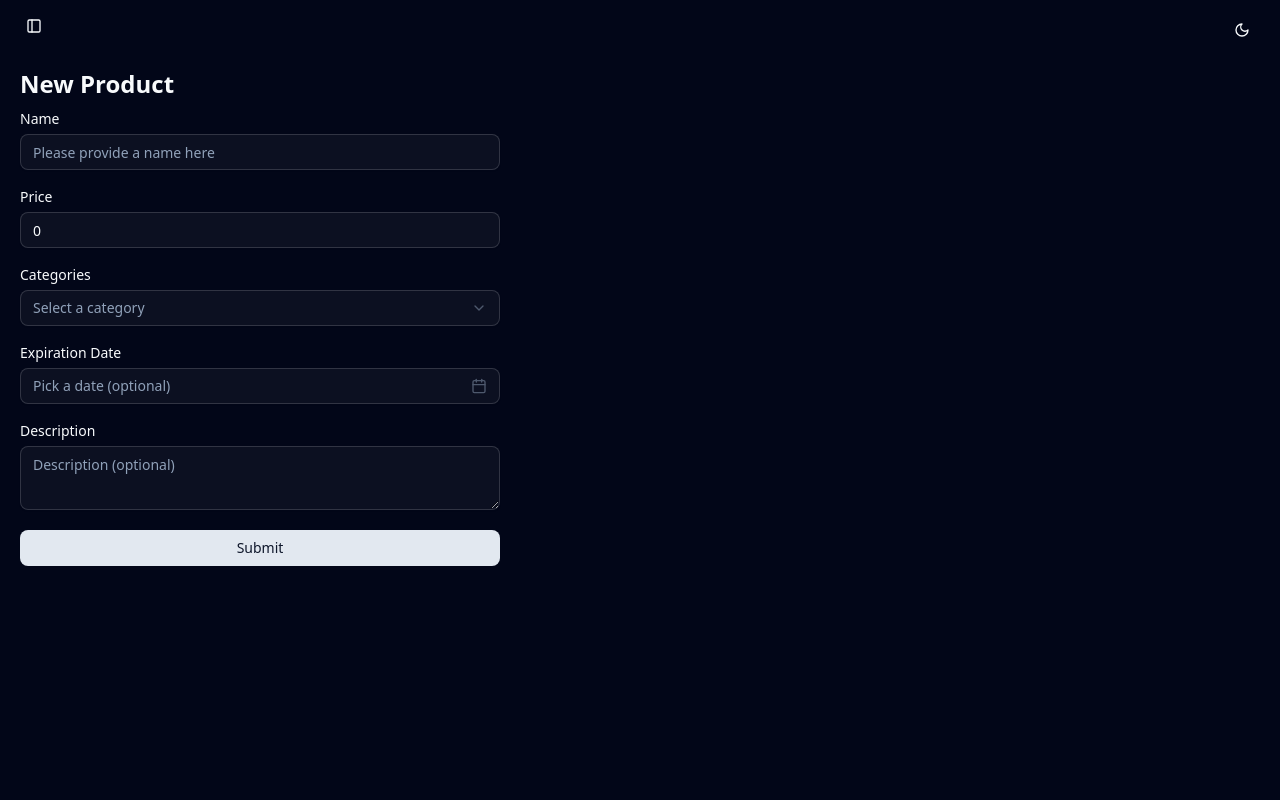
Test: Create Products › should have an error when name field is empty
Expected: the field with test id "name" is shown, left=20, top=134, right=500, bottom=170
Replace the text in the field with test id "price" with "45.50" at (260,230), box left=20, top=212, right=500, bottom=248
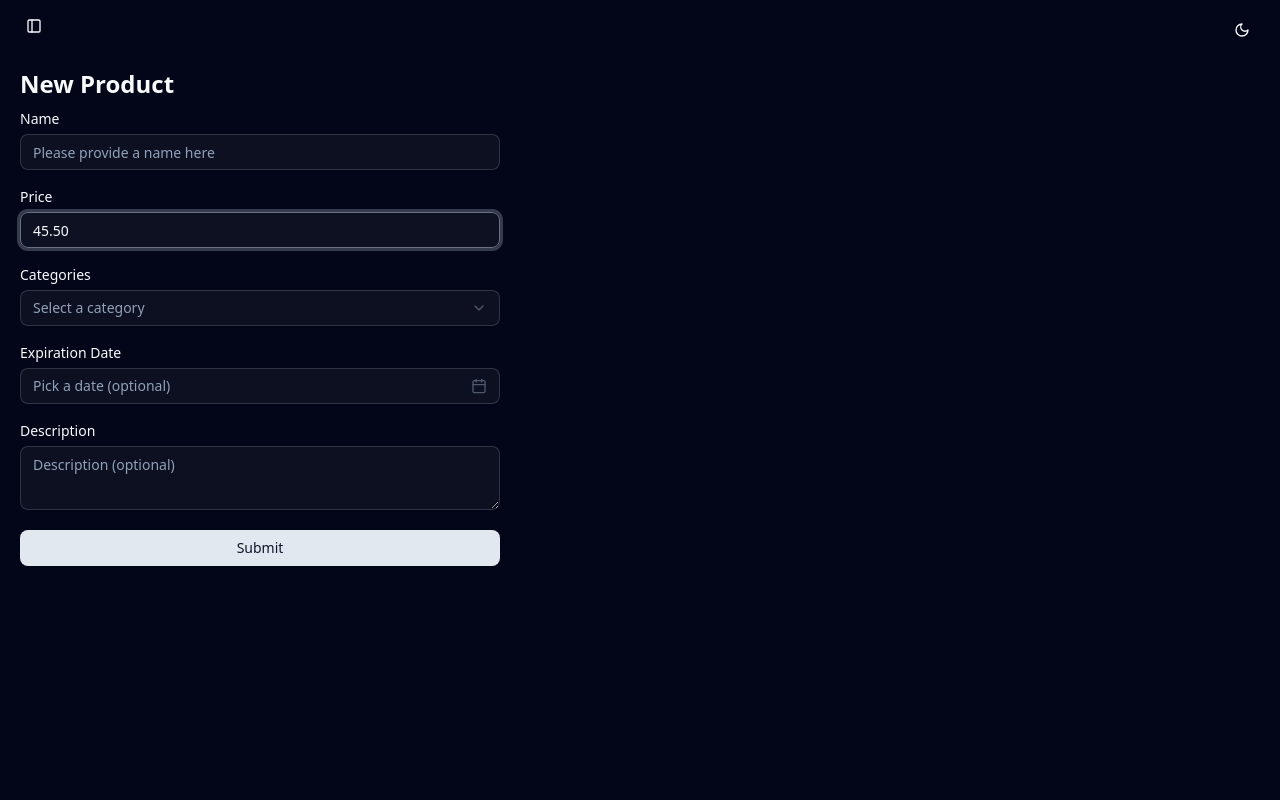
Expected: the field with test id "price" holds "45.50", left=20, top=212, right=500, bottom=248
Click the submit button at (260,548), box left=20, top=530, right=500, bottom=566
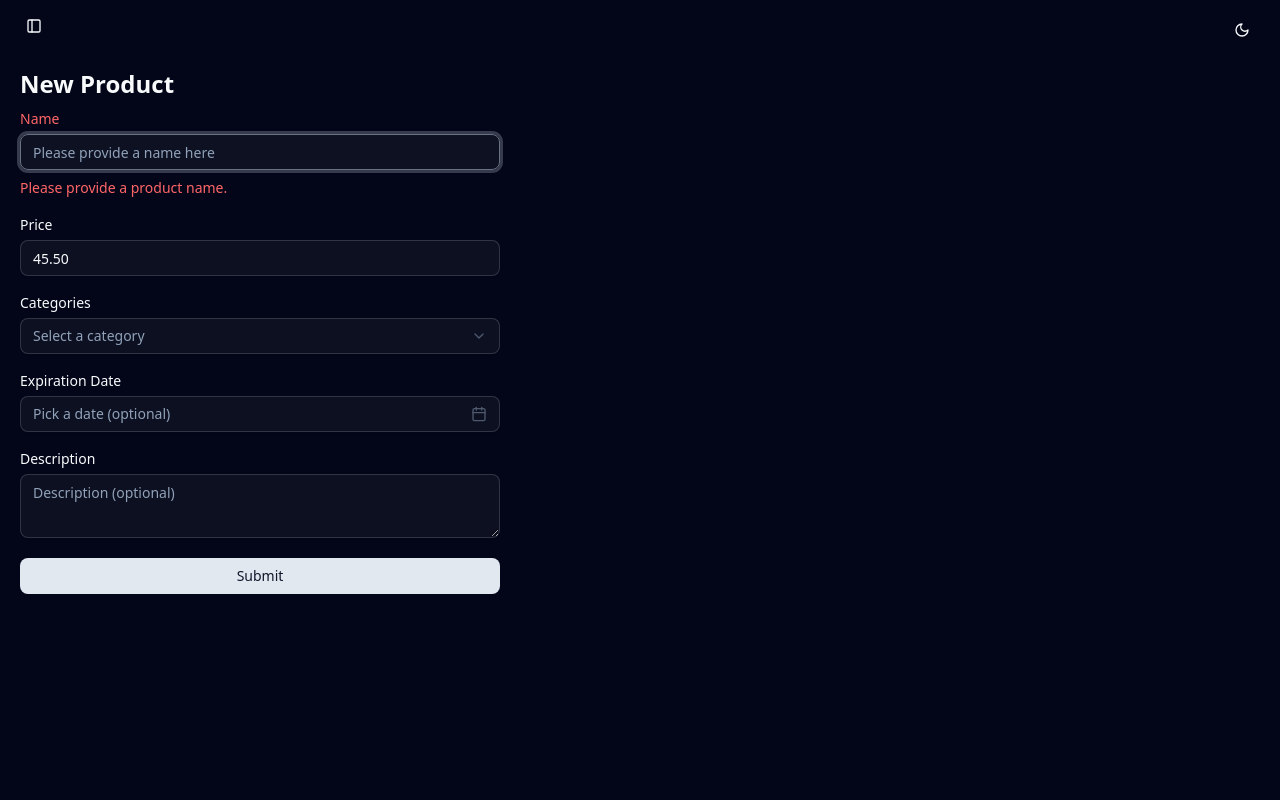
Expected: the text with test id "name-error-message" shows "Please provide a product name", left=20, top=178, right=227, bottom=197
